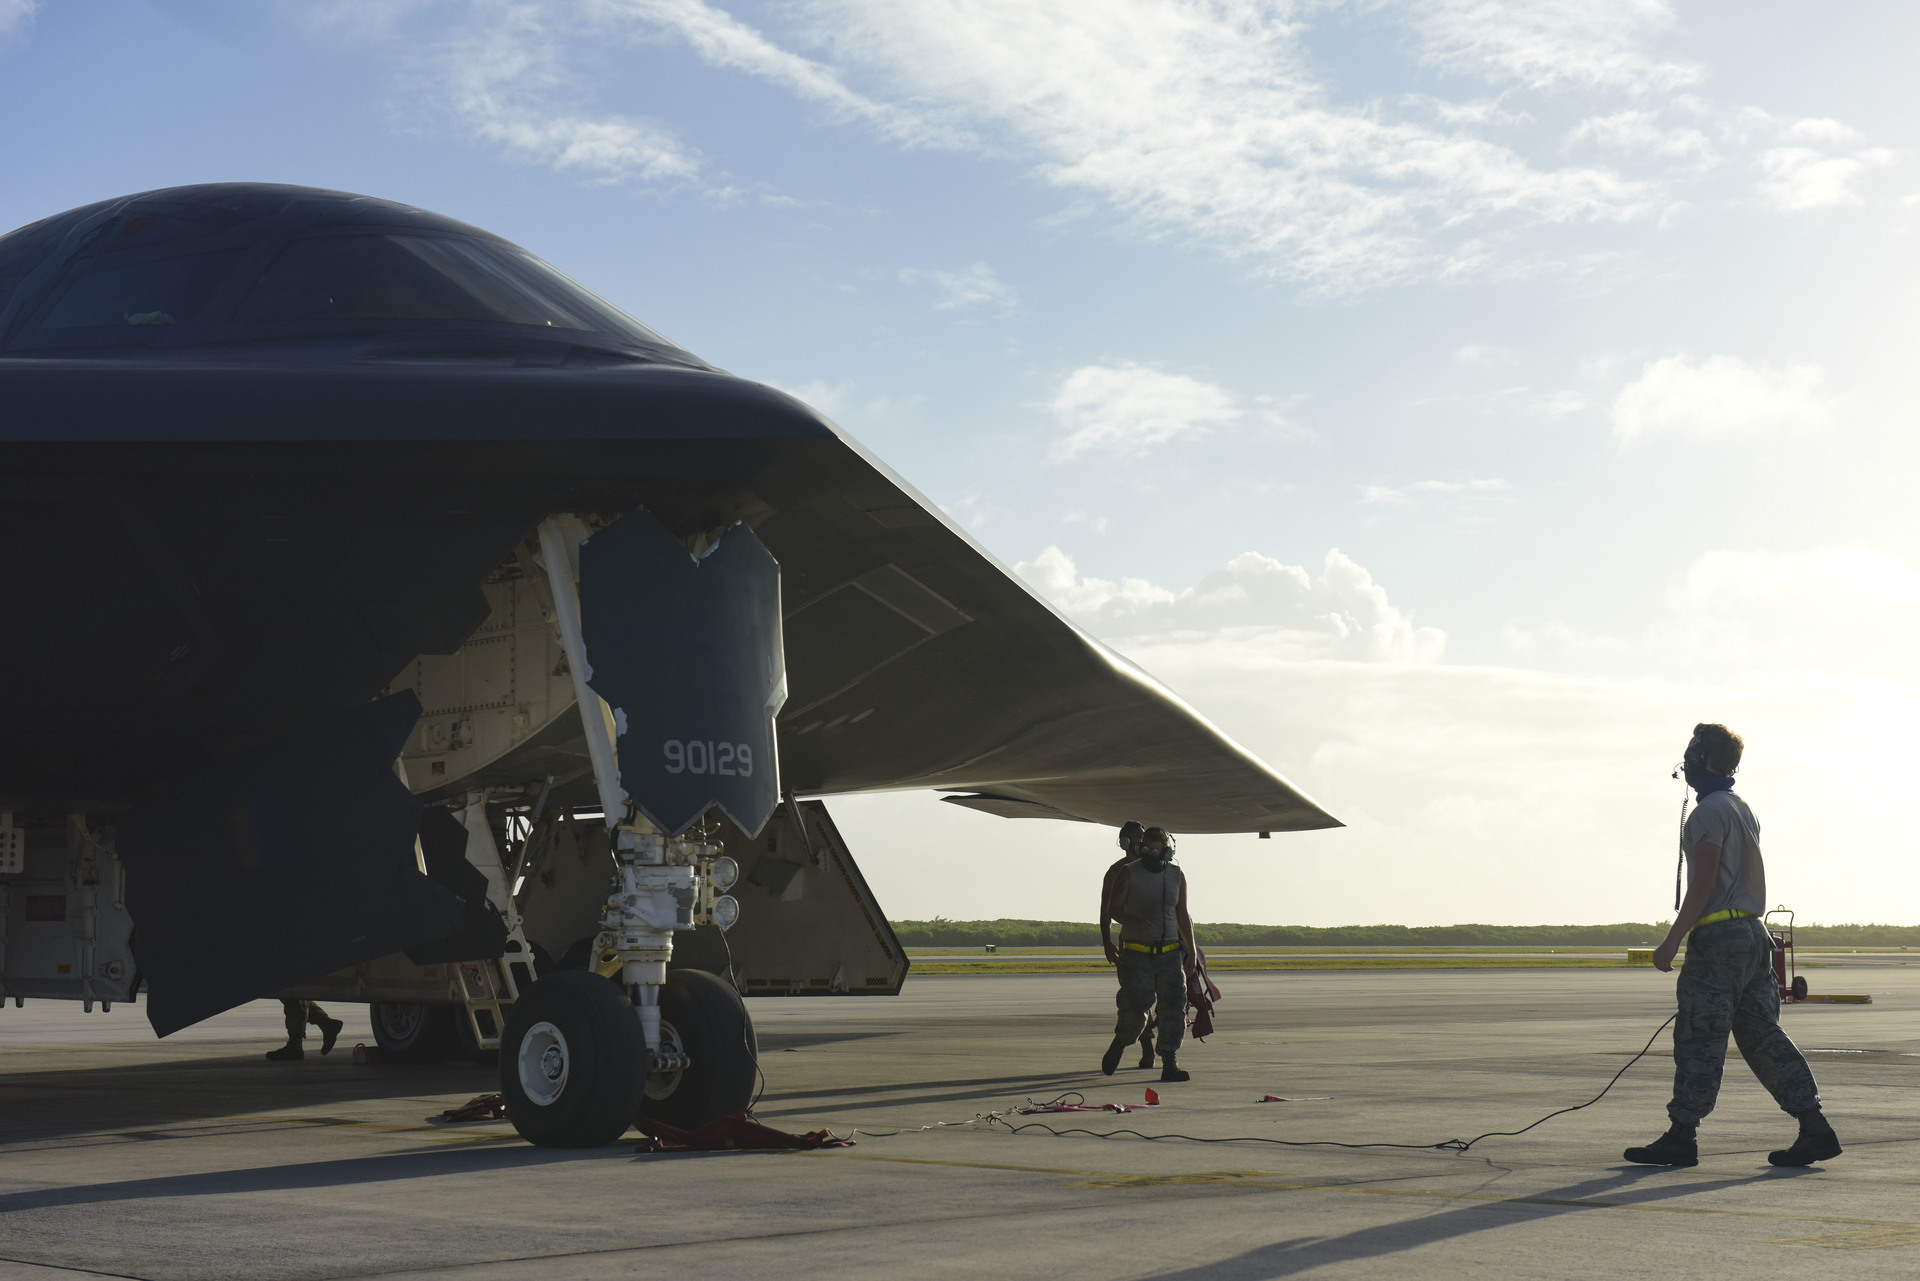B2: (1, 182, 1348, 1148)
